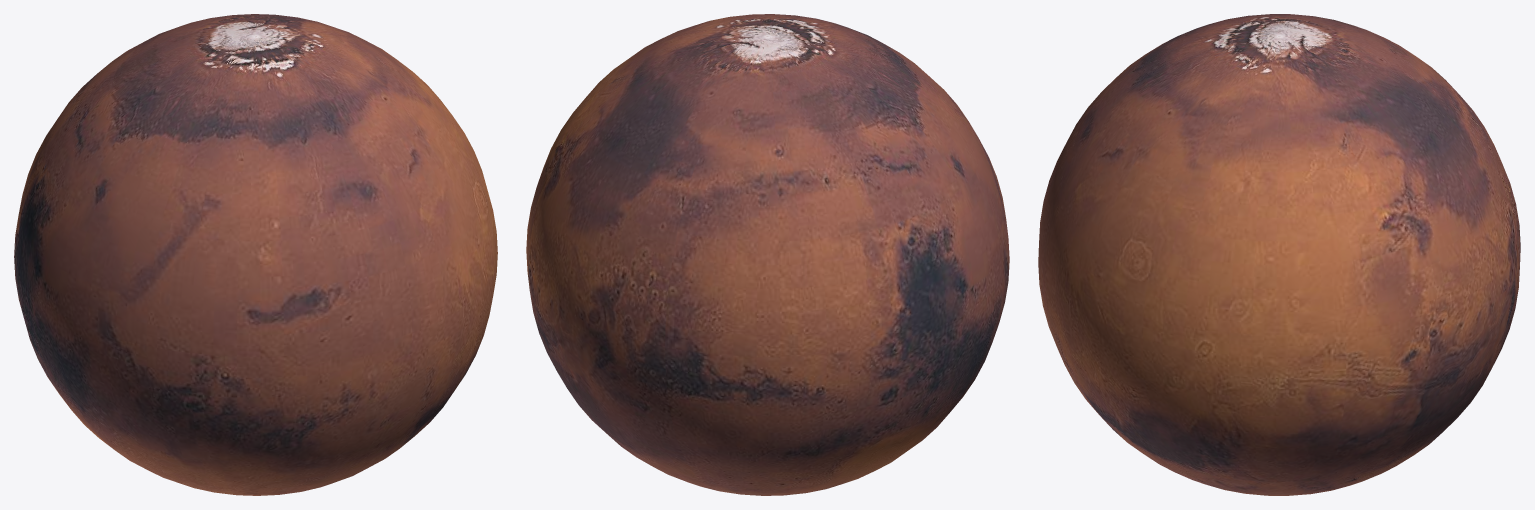
Rendered from Mars.fbx.
The picture shows the model from 3 angles, left to right: view 1: azimuth 30°, elevation 25°; view 2: azimuth 150°, elevation 25°; view 3: azimuth 270°, elevation 25°; orthographic projection.
Parts seen in each view (by area): view 1: Mars.002; view 2: Mars.002; view 3: Mars.002.
Part boxes in pixels (left/top/right/bottom): Mars.002: left=14, top=14, right=497, bottom=495; Mars.002: left=526, top=14, right=1009, bottom=495; Mars.002: left=1038, top=14, right=1520, bottom=495.
Size of the model in its own units: 4.28 by 4.28 by 4.28.
